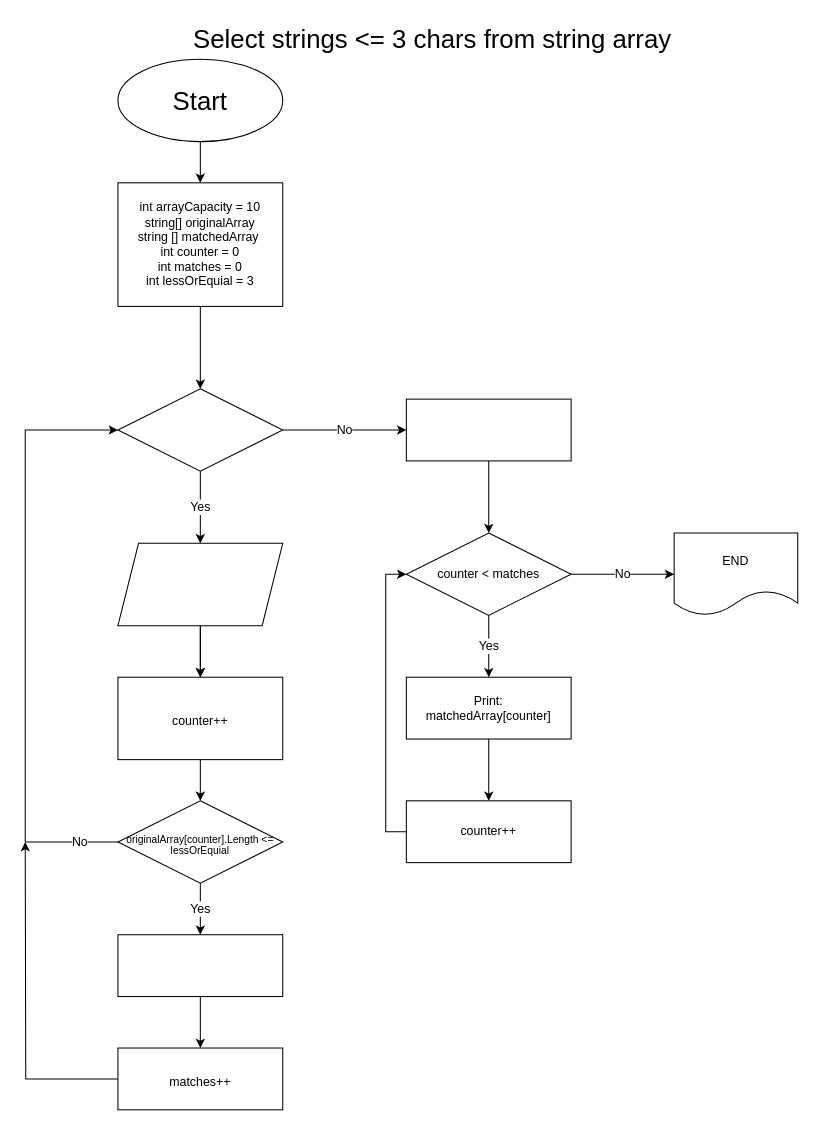
Some shapes in this 816 by 1137 pixel diagram are drawn without their labels. The centre of each missing label's shape, as x and y in pixels:
"counter < arrayCapacity" belongs at point (200, 429).
"counter = 0" belongs at point (488, 429).
"Input: originalArray[counter]" belongs at point (200, 584).
"matchedArray[matches] = originalArray[counter]" belongs at point (200, 965).
